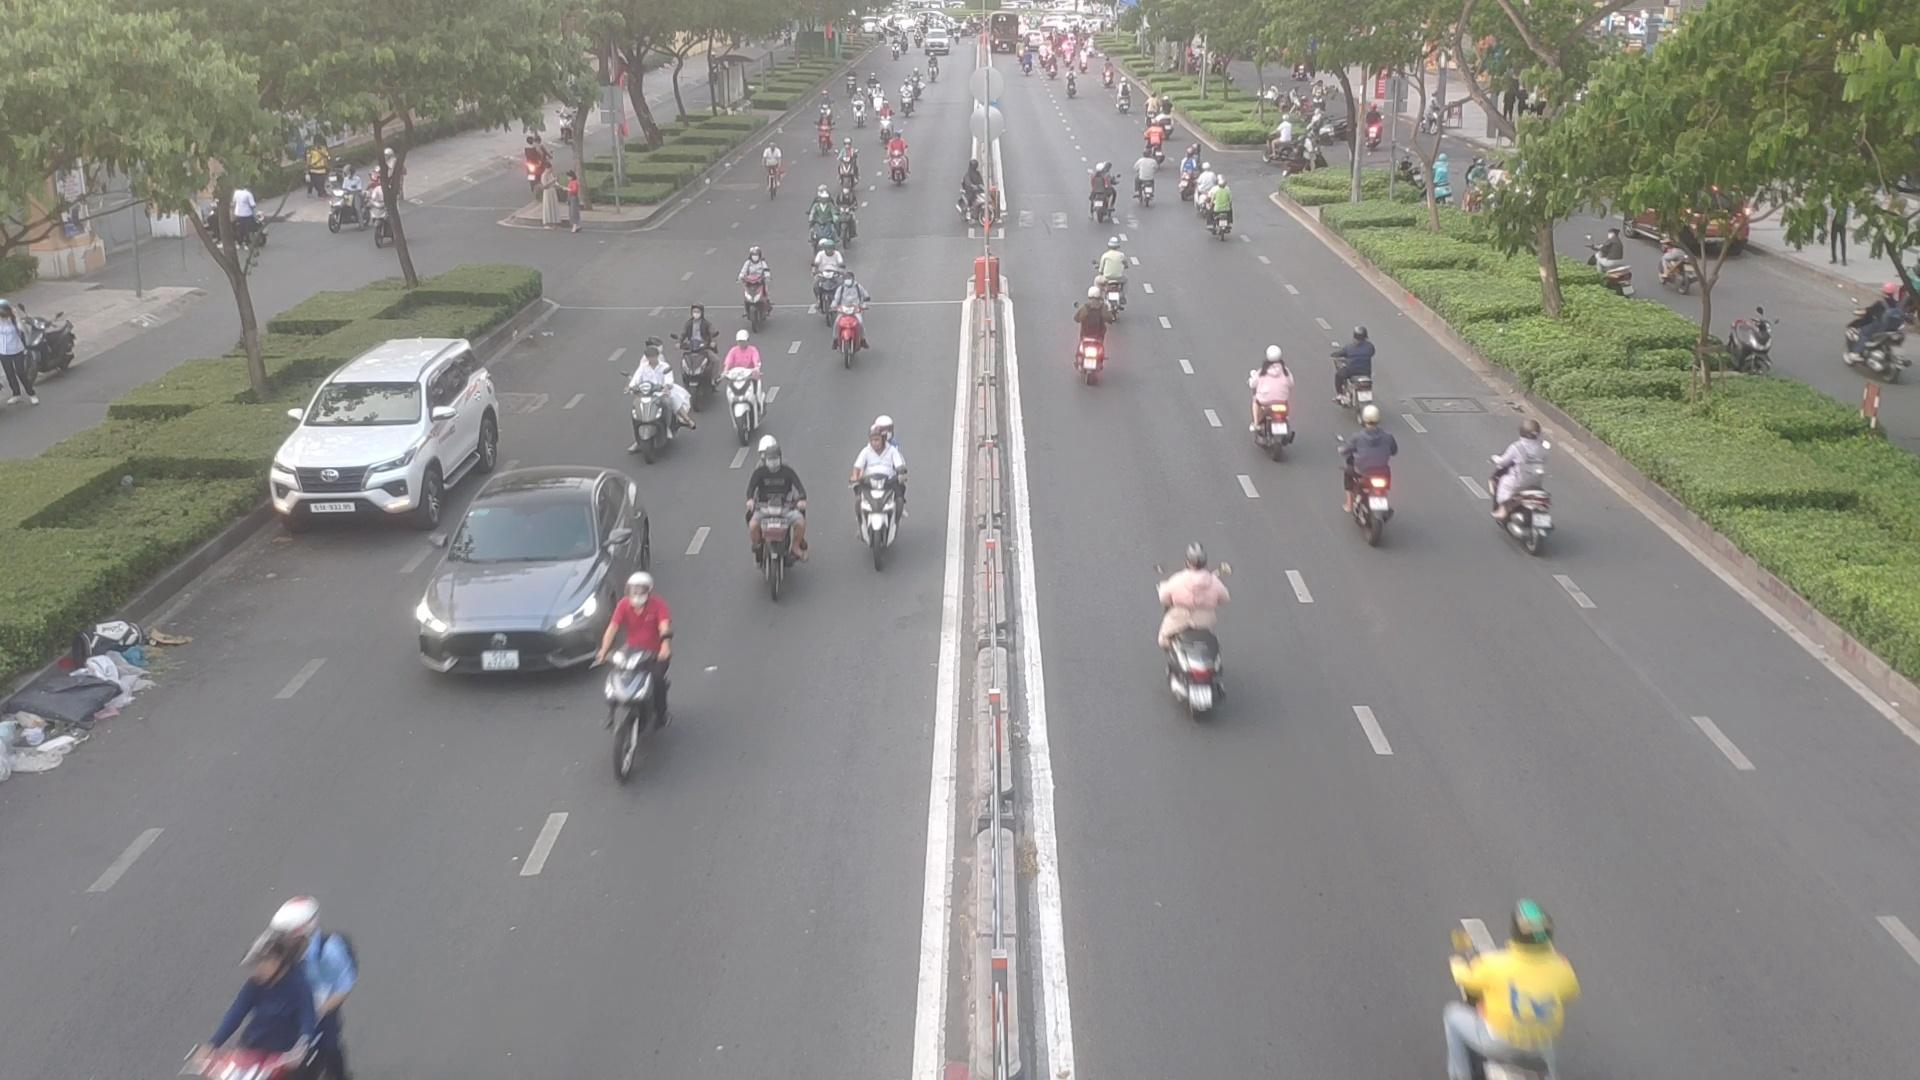car: (404, 468, 655, 680), (276, 339, 516, 530)
motorbike: (178, 895, 359, 1077), (1437, 891, 1582, 1077), (596, 578, 688, 767), (1143, 549, 1232, 713), (745, 450, 818, 600), (1484, 427, 1565, 555), (848, 426, 913, 571), (1340, 421, 1412, 537), (1847, 280, 1920, 382), (622, 349, 694, 454), (814, 270, 878, 364), (1065, 282, 1122, 386), (1245, 345, 1298, 454), (716, 332, 769, 426), (673, 314, 725, 405), (1083, 244, 1134, 319), (814, 260, 869, 328), (731, 251, 778, 328), (1336, 328, 1385, 404), (957, 158, 998, 245), (1203, 175, 1246, 241), (1087, 165, 1125, 225), (836, 187, 870, 245), (880, 138, 913, 189), (808, 190, 833, 251), (1135, 157, 1160, 208), (839, 144, 862, 189), (874, 107, 898, 138)
